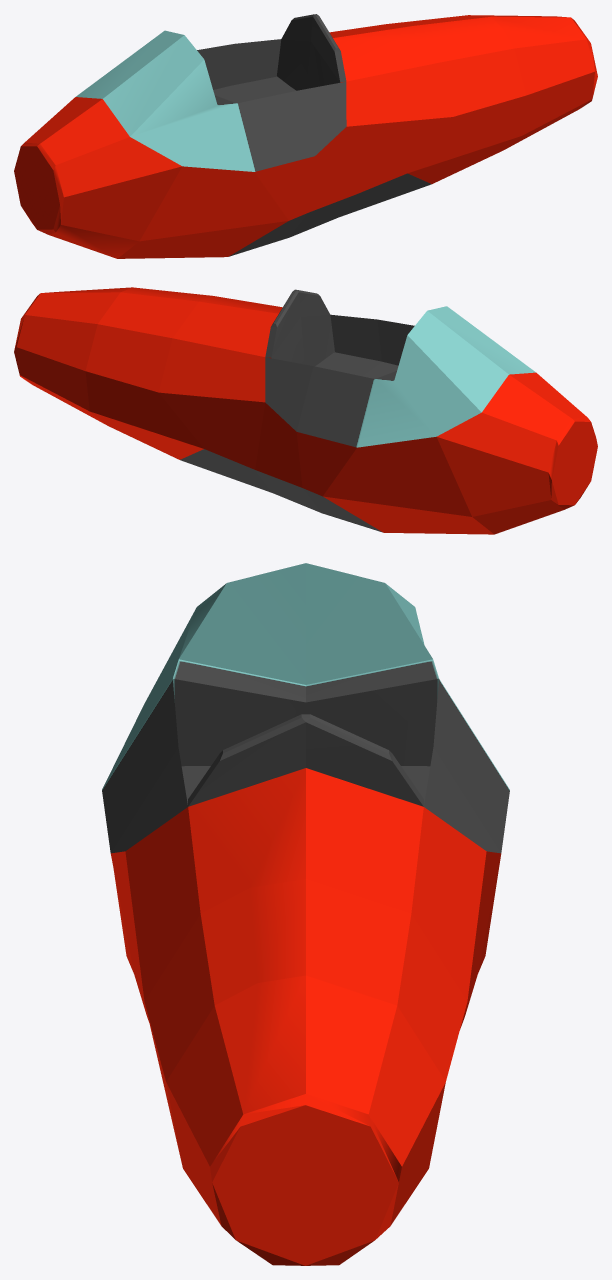
File: Corp_2.FBX
3 renders of one model, top to bottom at view 1: azimuth 30°, elevation 25°; view 2: azimuth 150°, elevation 25°; view 3: azimuth 270°, elevation 25°, orthographic. The views are drawn at different scales.
Visible parts, largest first — view 1: Cylinder038; view 2: Cylinder038; view 3: Cylinder038.
Part boxes in pixels (x1,y1,x2,y2): Cylinder038: (14,14,597,258); Cylinder038: (14,287,597,534); Cylinder038: (102,563,509,1265).
Size of the model in its own units: 122 by 45.31 by 40.14.
